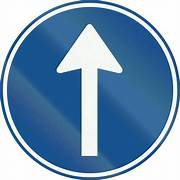forward: (1, 1, 178, 180)
